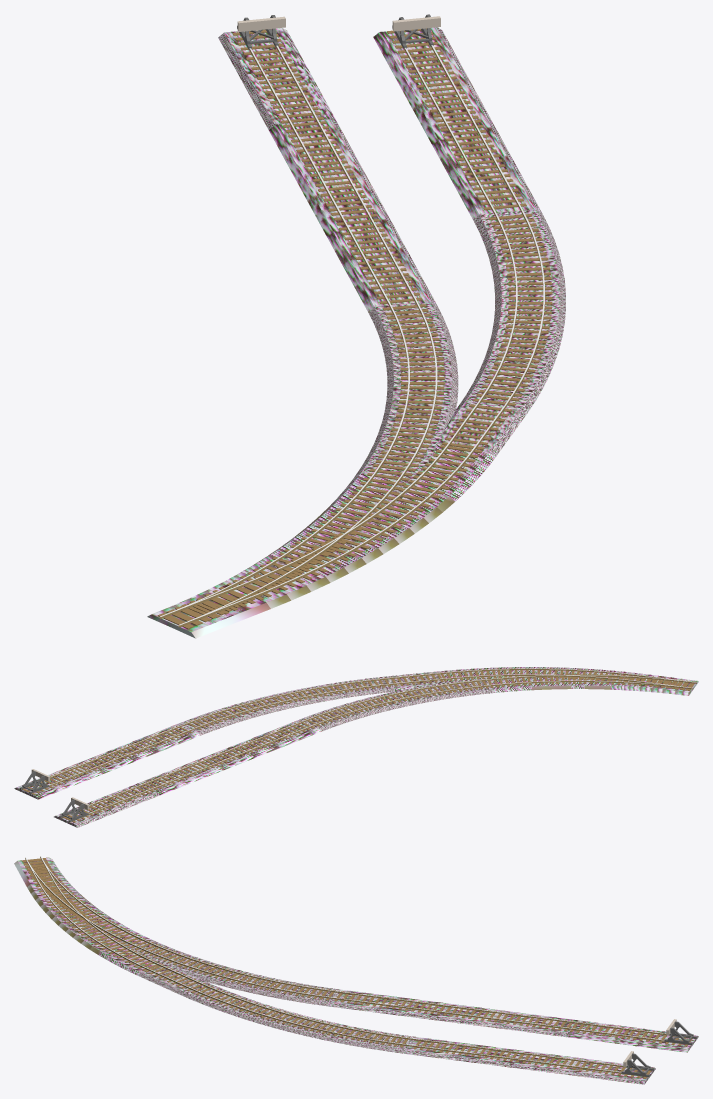
Rendered from GMLID_2633647_39464_319.gltf.
3 views of the same model, one above another, from view 1: azimuth 30°, elevation 25°; view 2: azimuth 150°, elevation 25°; view 3: azimuth 270°, elevation 25° (orthographic). The views are drawn at different scales.
Parts seen in each view (by area): view 1: Z_UP; view 2: Z_UP; view 3: Z_UP.
Boxes of the visible parts, left/top/right/bottom form: Z_UP: left=147, top=14, right=565, bottom=638; Z_UP: left=14, top=667, right=698, bottom=827; Z_UP: left=14, top=856, right=698, bottom=1084.
Bounding box in the file's own units: 70.6 × 2.52 × 90.72.
Materials: 7 (1 with a texture image).
